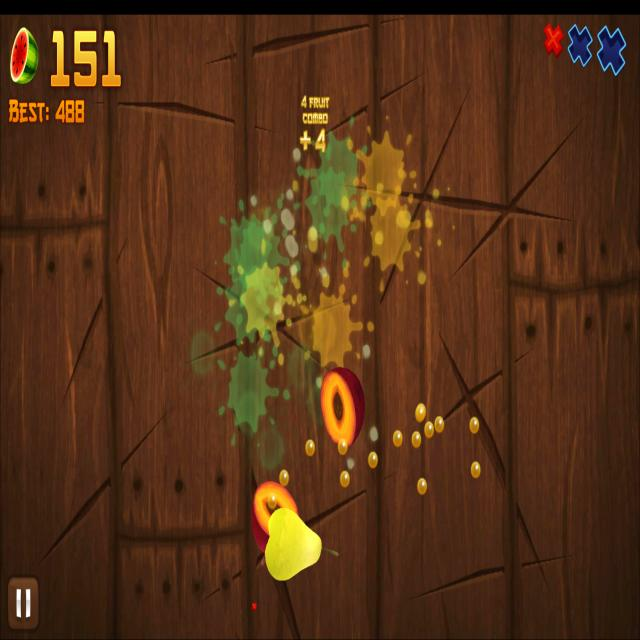fruit: (266, 507, 322, 582)
